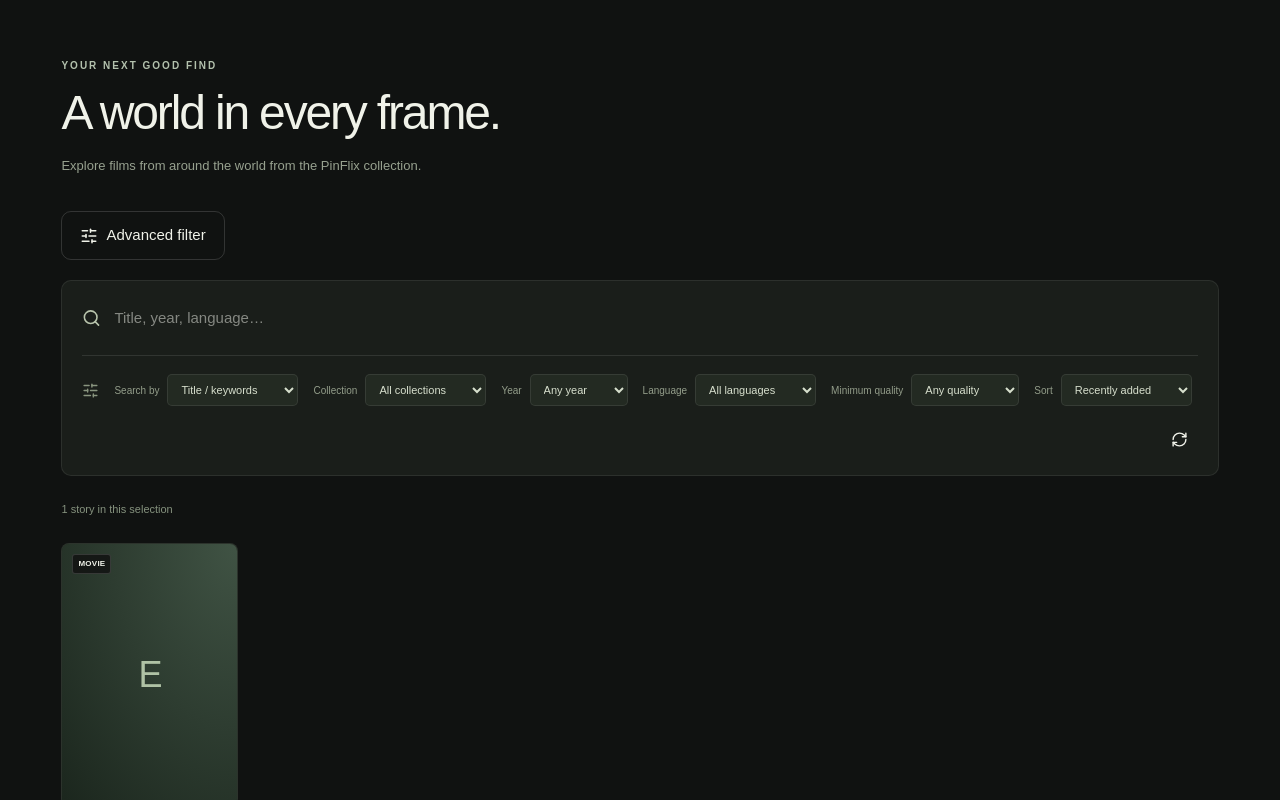
Test: ported source UI flows › keeps the selected title order across More stories pages
Select "Title A–Z" in the dropdown named "Sort titles" at (1126, 390), box [1061,374,1192,406]
(page scrolled)
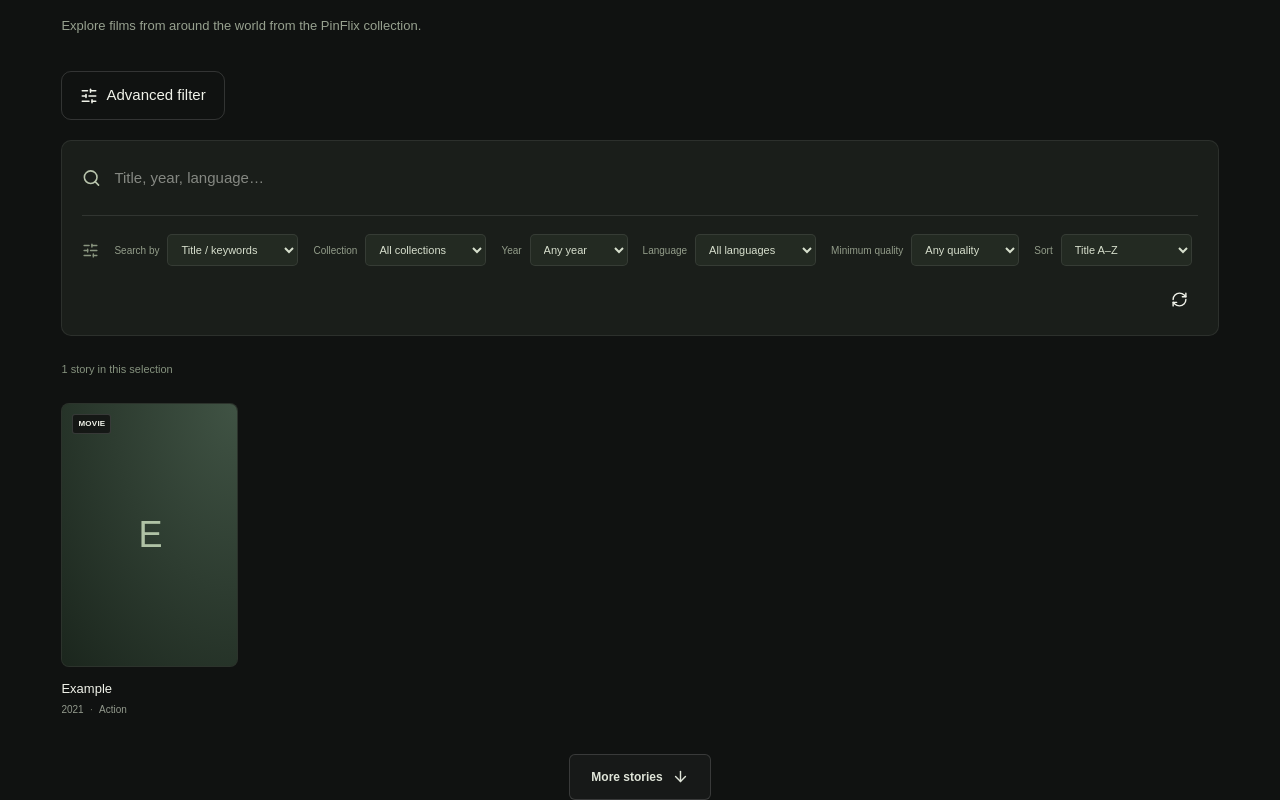
Click the button "More stories" at (640, 777), box [569,754,711,799]
(page scrolled)
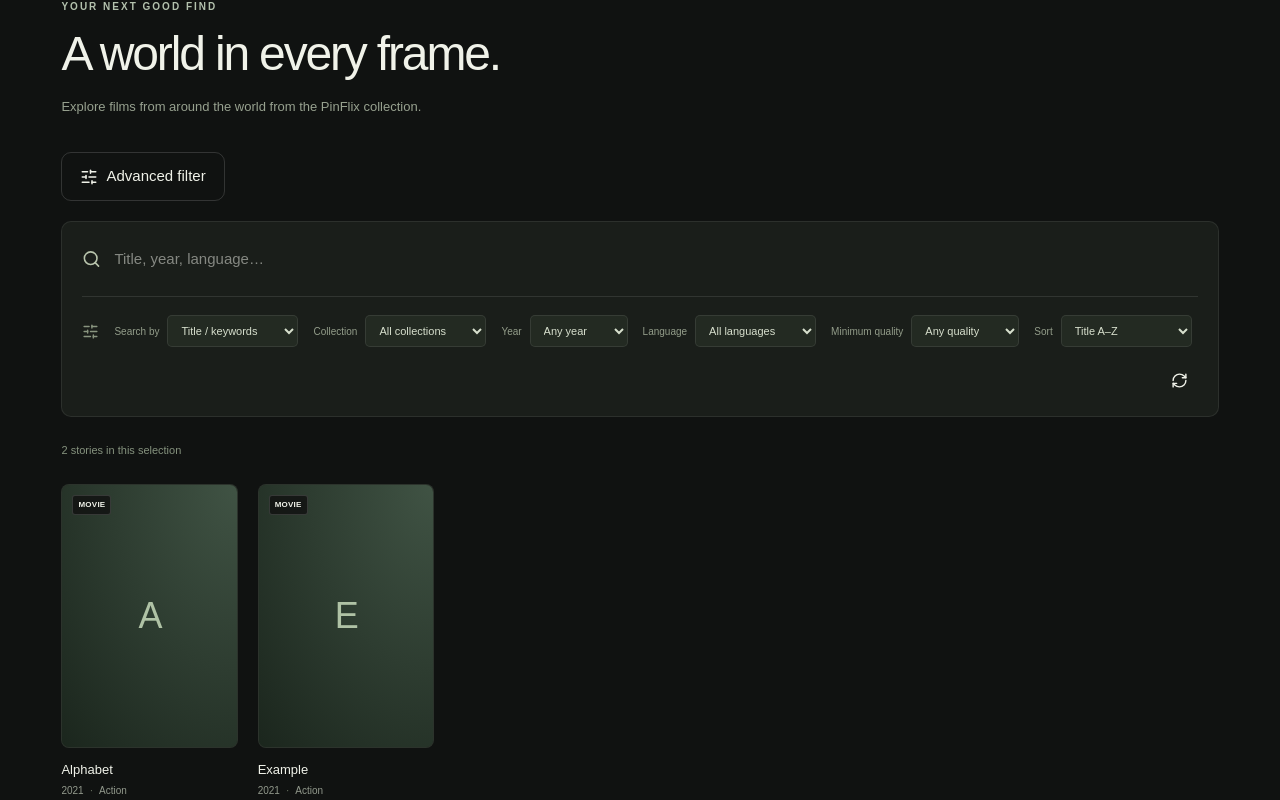
Expected: the heading "Alphabet" is shown, [61,762,113,777]
